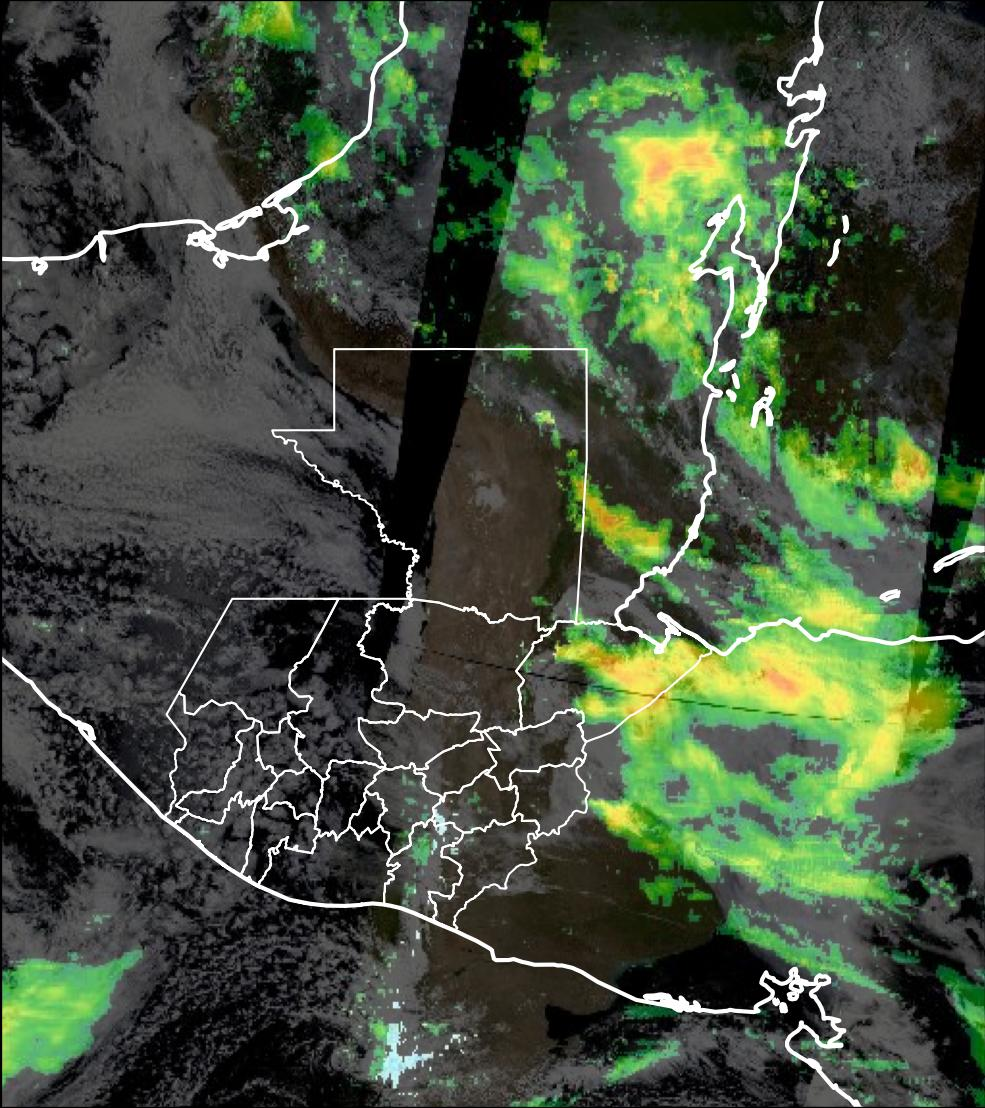precipitacion: (744, 647, 869, 736)
